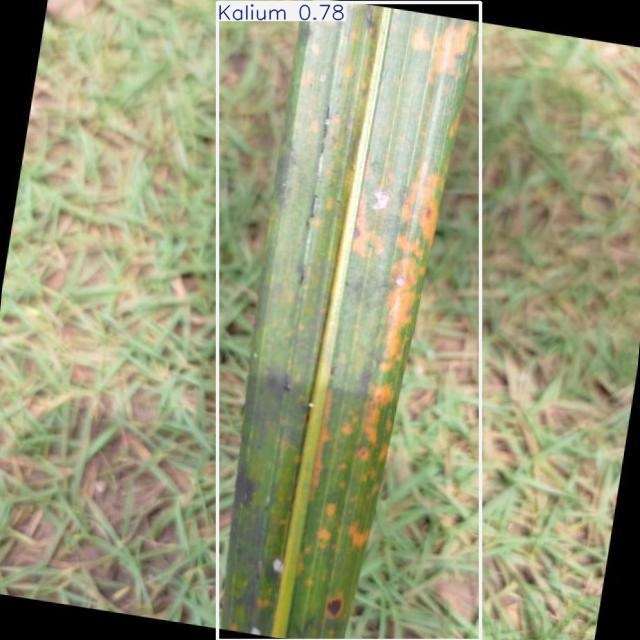Kalium: (218, 3, 480, 640)
